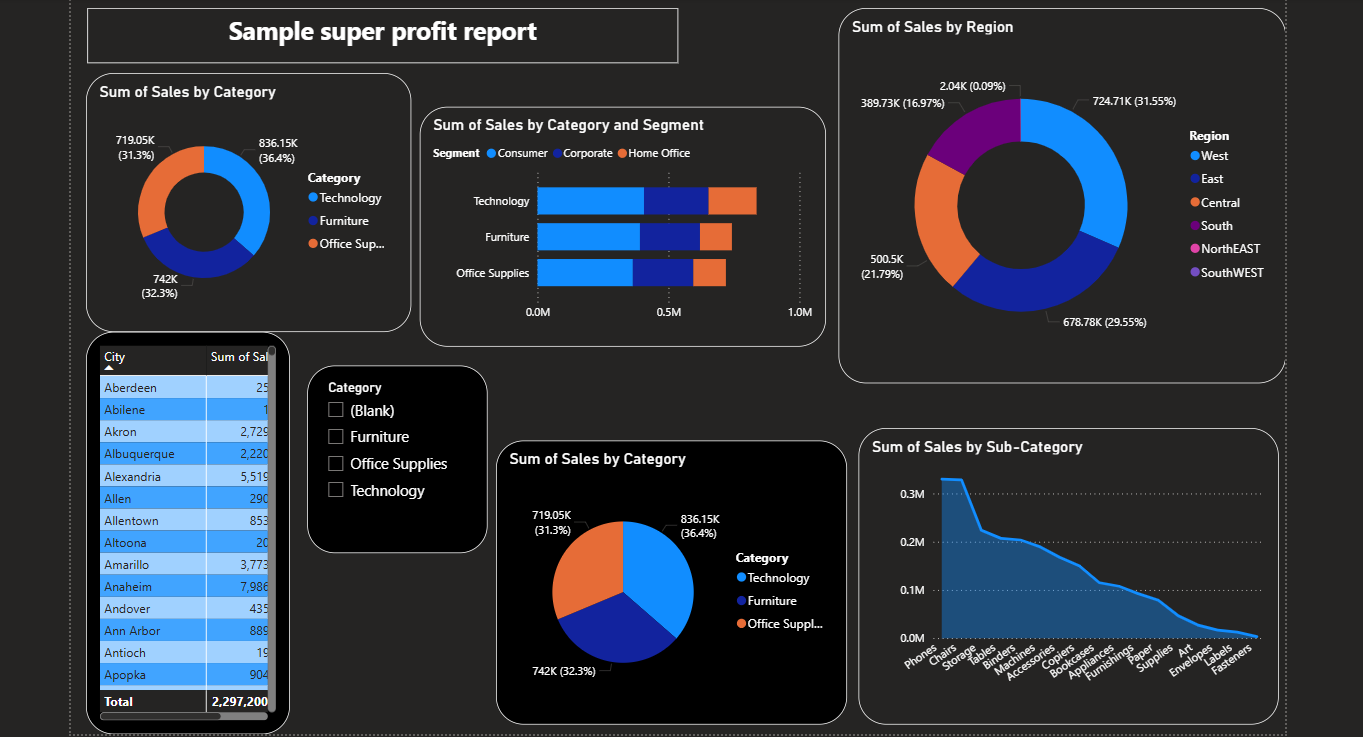

Layout of this report page (visuals, bound fields, positions):
{"tool":"powerbi","page":{"name":"Page 1","canvas":[1320,800],"ordinal":0},"visuals":[{"type":"textbox","box":[17.7,10.9,642.7,59.8],"z":0},{"type":"donutChart","fields":{"Category":["Orders.Category"],"Y":["Sum(Orders.Sales)"]},"box":[16.3,81.5,353.3,281.3],"z":1000},{"type":"donutChart","fields":{"Category":["Orders.Region"],"Y":["Sum(Orders.Sales)"]},"box":[834.2,10.9,486.4,407.6],"z":2000},{"type":"barChart","fields":{"Category":["Orders.Category"],"Y":["Sum(Orders.Sales)"],"Series":["Orders.Segment"]},"box":[379.1,118.2,441.6,260.9],"z":3000},{"type":"stackedAreaChart","fields":{"Y":["Sum(Orders.Sales)"],"Category":["Orders.Sub-Category"]},"box":[856,467.4,456.5,322],"z":4000},{"type":"slicer","fields":{"Values":["Orders.Category"]},"box":[256.8,399.5,195.7,203.8],"z":5000},{"type":"pivotTable","fields":{"Rows":["Orders.City"],"Values":["Sum(Orders.Sales)"]},"box":[16.3,362.8,221.5,437.5],"z":6000},{"type":"pieChart","fields":{"Y":["Sum(Orders.Sales)"],"Category":["Orders.Category"]},"box":[462,481,381.8,308.4],"z":7000}]}

Visuals, with their boxes in screenshot pixels (x1, y1, x2, y2):
textbox: BBox(91, 6, 676, 61)
donutChart - Orders.Category x Sum(Orders.Sales): BBox(89, 71, 411, 327)
donutChart - Orders.Region x Sum(Orders.Sales): BBox(834, 6, 1276, 377)
barChart - Orders.Category x Sum(Orders.Sales): BBox(420, 104, 821, 341)
stackedAreaChart - Sum(Orders.Sales) x Orders.Sub-Category: BBox(854, 422, 1269, 715)
slicer - Orders.Category: BBox(308, 360, 486, 546)
pivotTable - Orders.City x Sum(Orders.Sales): BBox(89, 327, 291, 725)
pieChart - Sum(Orders.Sales) x Orders.Category: BBox(495, 434, 842, 715)
